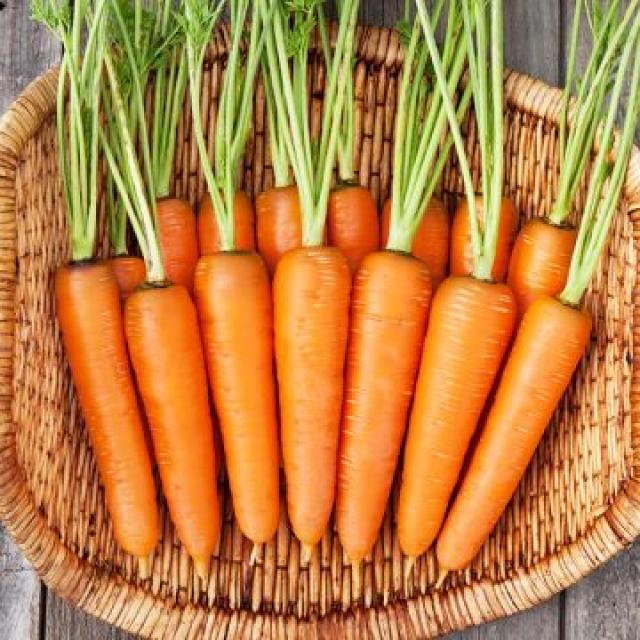Fresh_Carrot: (419, 294, 583, 577), (49, 264, 163, 571), (192, 249, 292, 534), (140, 285, 236, 576), (334, 253, 414, 535), (404, 273, 472, 545), (278, 244, 338, 516)
